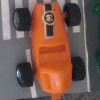naranja: (13, 4, 85, 97)
